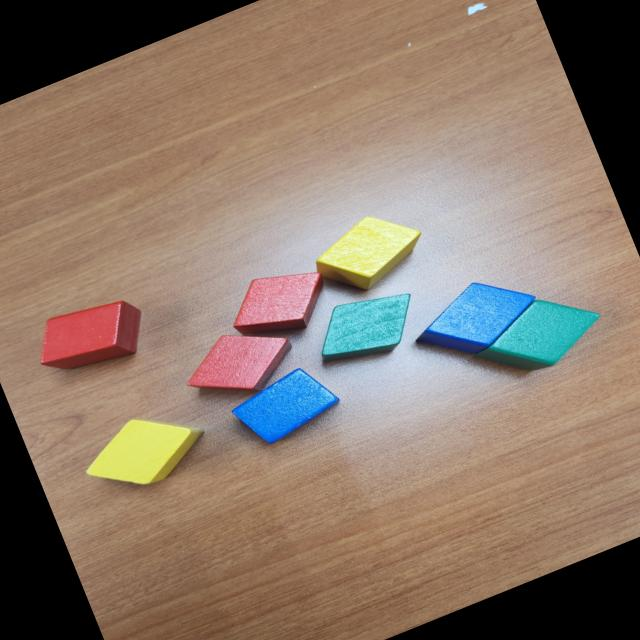blue: (402, 262, 547, 372), (224, 358, 346, 454)
green: (461, 279, 611, 392), (303, 278, 427, 378)
red: (173, 312, 305, 416), (26, 286, 157, 388), (220, 254, 338, 351)
yellow: (72, 394, 216, 506), (304, 199, 434, 305)
